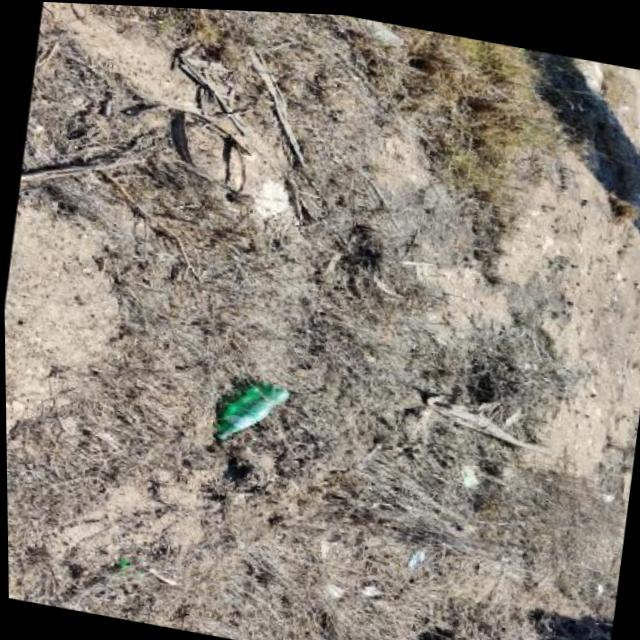plastic: (209, 373, 294, 453)
